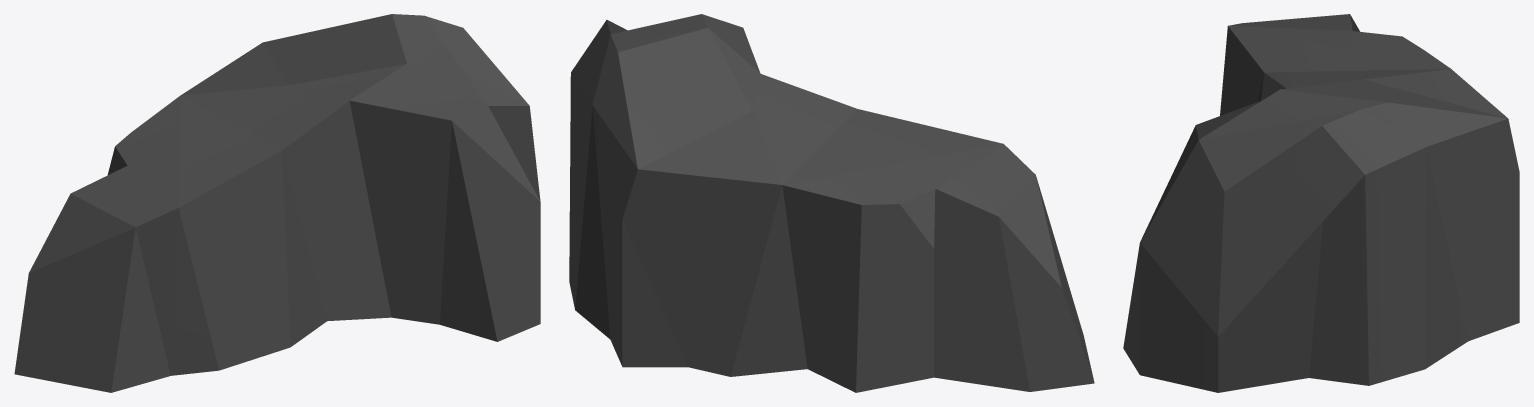
Rendered from volcanicRockS02.fbx.
The picture shows the model from 3 angles, left to right: view 1: azimuth 30°, elevation 25°; view 2: azimuth 150°, elevation 25°; view 3: azimuth 270°, elevation 25°; orthographic projection. The views are drawn at different scales.
Visible parts, largest first — view 1: Cliff_Rock_10; view 2: Cliff_Rock_10; view 3: Cliff_Rock_10.
Part boxes in pixels (box(x1,y1,x2,y2)): Cliff_Rock_10: box(14, 14, 540, 392); Cliff_Rock_10: box(569, 14, 1094, 392); Cliff_Rock_10: box(1123, 14, 1519, 392).
Size of the model in its own units: 205 by 97.21 by 135.
Materials: 1 (1 with a texture image).
